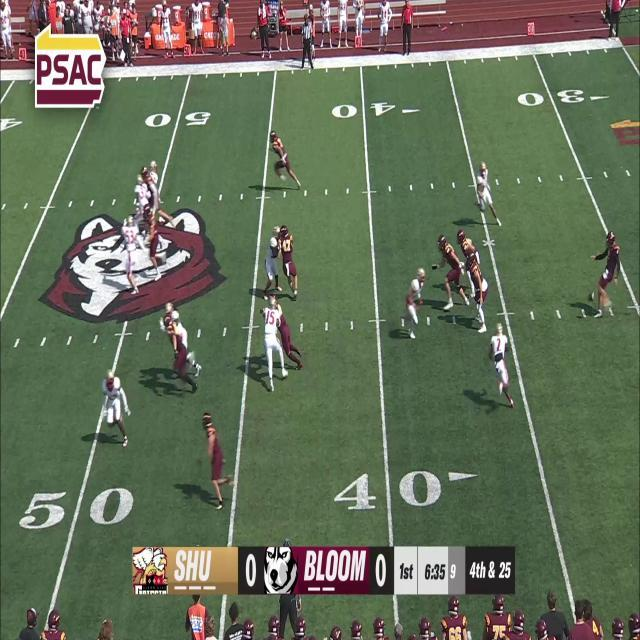football: (587, 290, 595, 302)
